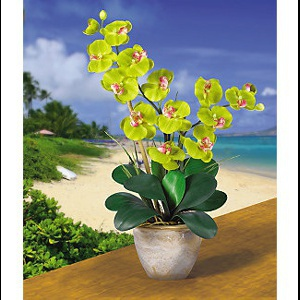flowerpot: (130, 211, 208, 281)
